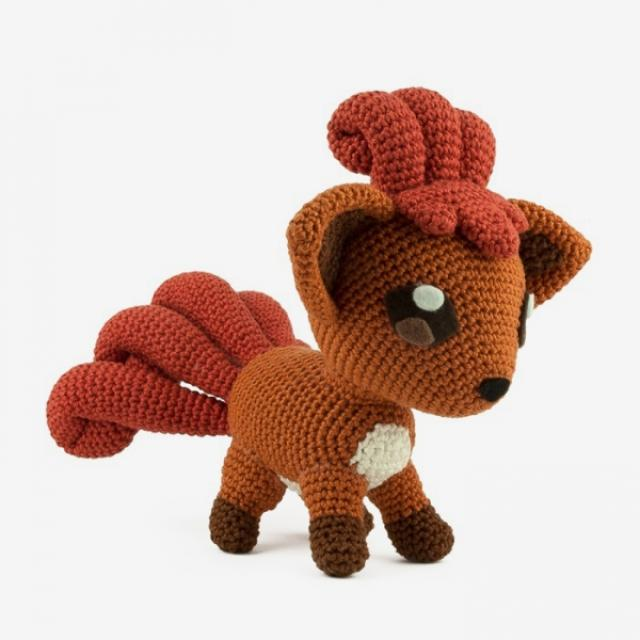Vulpix: (171, 83, 558, 567)
